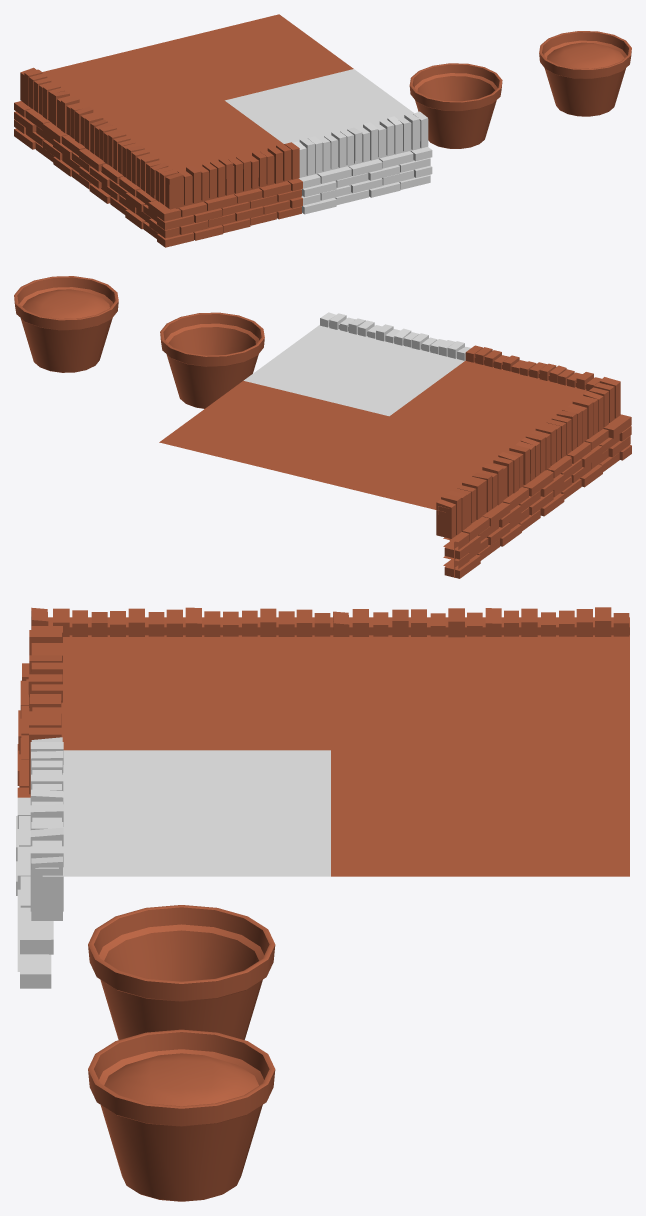
Rendered from PlantationTexturingFile.fbx.
The picture shows the model from 3 angles, top to bottom: view 1: azimuth 30°, elevation 25°; view 2: azimuth 150°, elevation 25°; view 3: azimuth 270°, elevation 25°; orthographic projection. The views are drawn at different scales.
Parts seen in each view (by area): view 1: SM_PlantationCorner, SM_PlantationEdge.002, SM_PlantationEdge, SM_PlantationMiddle, SM_PotDirt, SM_PotEmpty; view 2: SM_PlantationCorner, SM_PlantationEdge, SM_PlantationEdge.002, SM_PlantationMiddle, SM_PotDirt, SM_PotEmpty; view 3: SM_PlantationEdge.002, SM_PlantationCorner, SM_PlantationEdge, SM_PlantationMiddle, SM_PotDirt, SM_PotEmpty.
Part boxes in pixels (bbox=[...]): SM_PlantationCorner: bbox=[88, 100, 302, 247]; SM_PlantationEdge.002: bbox=[225, 69, 432, 214]; SM_PlantationEdge: bbox=[14, 46, 224, 189]; SM_PlantationMiddle: bbox=[150, 14, 353, 100]; SM_PotDirt: bbox=[539, 31, 631, 116]; SM_PotEmpty: bbox=[409, 63, 502, 148]; SM_PlantationCorner: bbox=[390, 345, 631, 516]; SM_PlantationEdge: bbox=[305, 416, 542, 578]; SM_PlantationEdge.002: bbox=[243, 312, 470, 416]; SM_PlantationMiddle: bbox=[159, 381, 388, 477]; SM_PotDirt: bbox=[14, 276, 118, 372]; SM_PotEmpty: bbox=[160, 312, 264, 408]; SM_PlantationEdge.002: bbox=[16, 737, 330, 988]; SM_PlantationCorner: bbox=[17, 607, 330, 797]; SM_PlantationEdge: bbox=[331, 607, 629, 750]; SM_PlantationMiddle: bbox=[331, 750, 629, 876]; SM_PotDirt: bbox=[88, 1029, 275, 1201]; SM_PotEmpty: bbox=[88, 905, 275, 1039].
Bounding box in the file's own units: 387 × 48.23 × 205.
